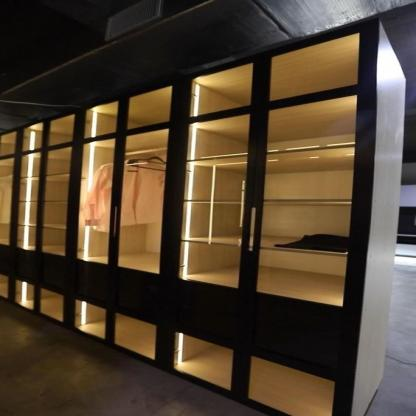Transparent Closet: (0, 17, 406, 416)
